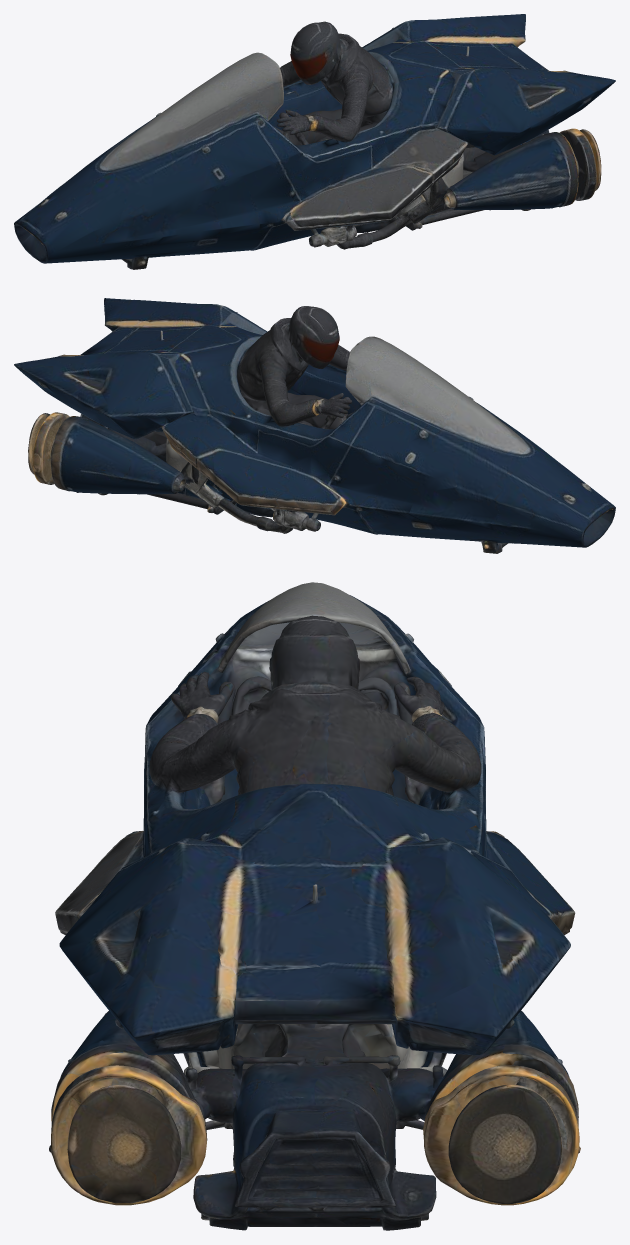
The model's file is rival_bike.glb.
3 renders of one model, top to bottom at view 1: azimuth 30°, elevation 25°; view 2: azimuth 150°, elevation 25°; view 3: azimuth 270°, elevation 25°, orthographic. The views are drawn at different scales.
Bounding box in the file's own units: 1.9 × 0.7195 × 0.8052.
1 material, 1 textured.
